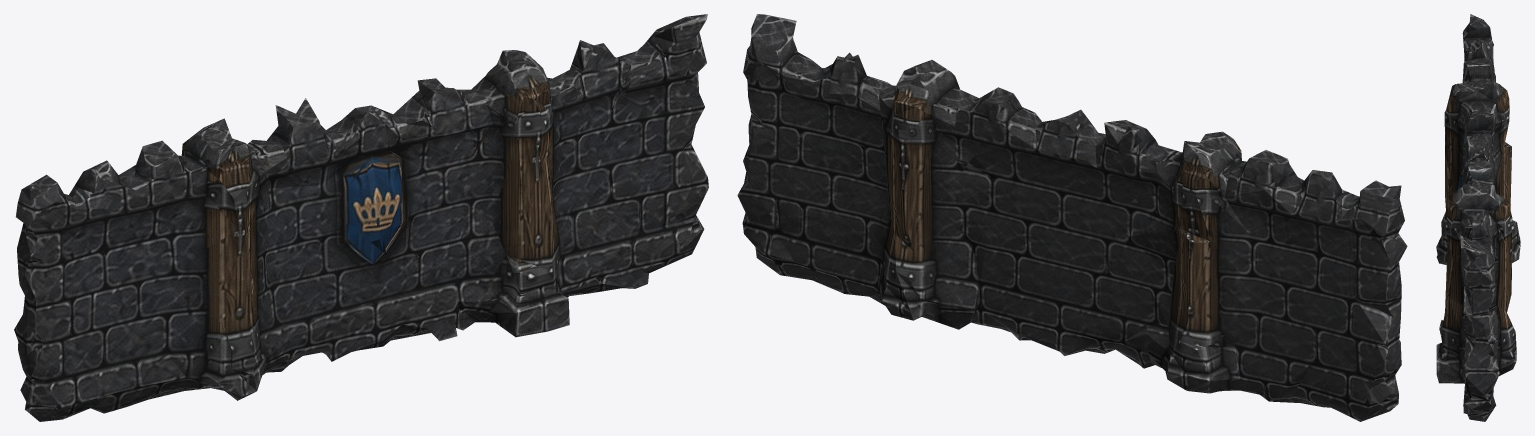
The model's file is war_wall.glb.
3 renders of one model, left to right at view 1: azimuth 30°, elevation 25°; view 2: azimuth 150°, elevation 25°; view 3: azimuth 270°, elevation 25°, orthographic. The views are drawn at different scales.
Parts seen in each view (by area): view 1: output_unwrapped; view 2: output_unwrapped; view 3: output_unwrapped.
Boxes of the visible parts, x1=… form: output_unwrapped: x1=14, y1=14, x2=708, y2=421; output_unwrapped: x1=737, y1=14, x2=1407, y2=421; output_unwrapped: x1=1436, y1=14, x2=1520, y2=421.
Bounding box in the file's own units: 1.89 × 0.692 × 0.2764.
1 material, 1 textured.
